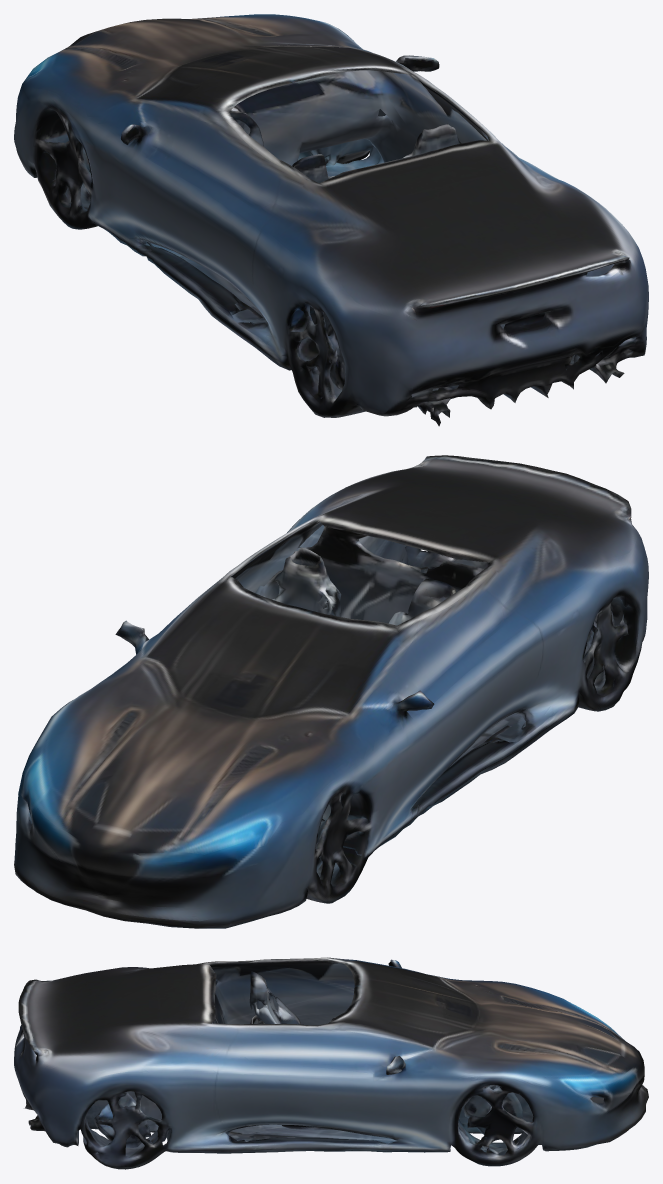
The model's file is Futuristic_Elegance_1104035950.glb.
The picture shows the model from 3 angles, top to bottom: view 1: azimuth 30°, elevation 25°; view 2: azimuth 150°, elevation 25°; view 3: azimuth 270°, elevation 25°; orthographic projection. The views are drawn at different scales.
Bounding box in the file's own units: 0.8136 × 0.4589 × 1.99.
Materials: 1 (1 with a texture image).
